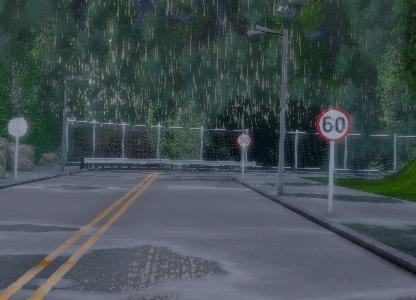Speed_60: (313, 104, 351, 145)
